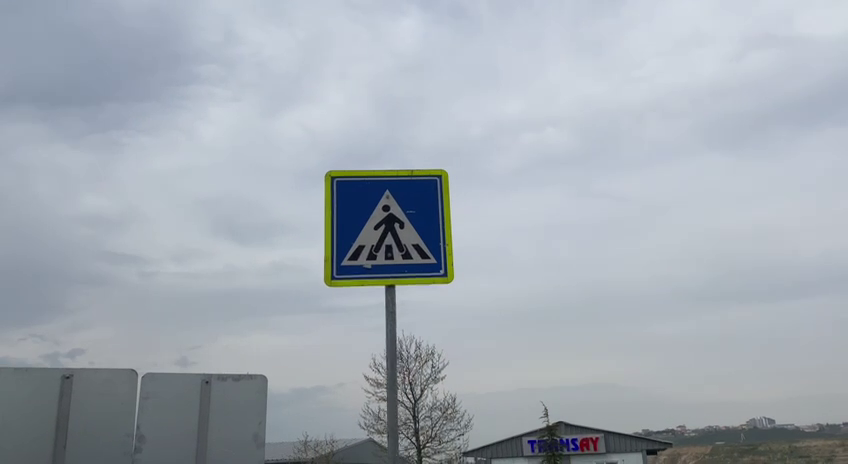pedestrianCrossing: (321, 167, 457, 288)
